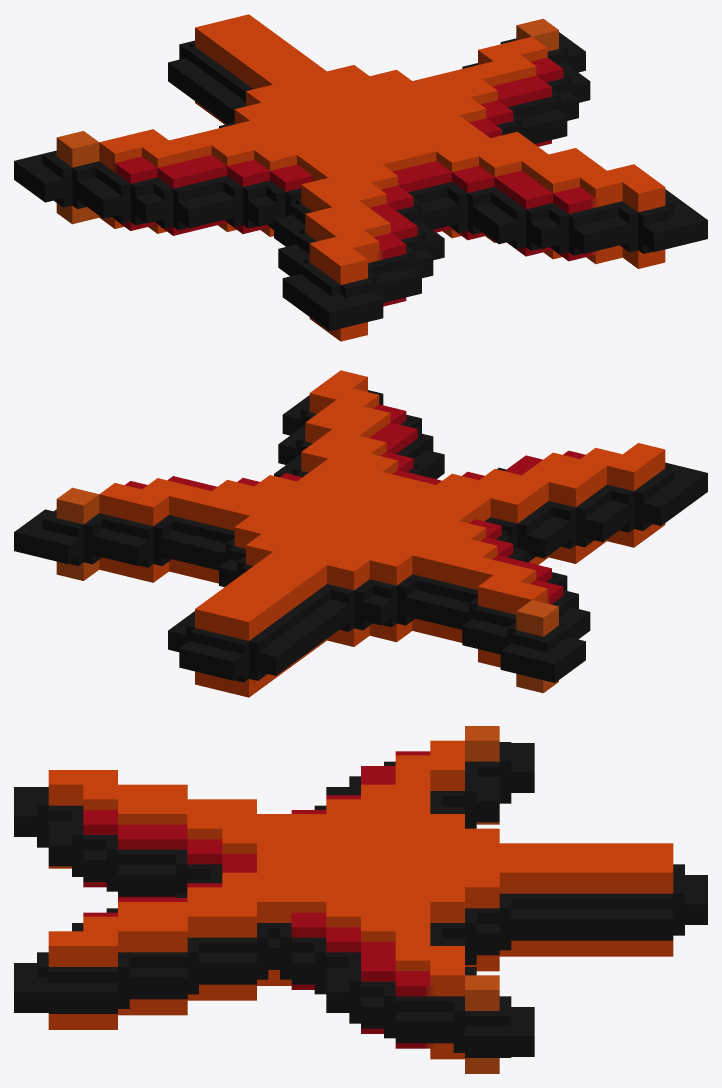
Rendered from Starfish.fbx.
3 renders of one model, top to bottom at view 1: azimuth 30°, elevation 25°; view 2: azimuth 150°, elevation 25°; view 3: azimuth 270°, elevation 25°, orthographic. The views are drawn at different scales.
Parts seen in each view (by area): view 1: Starfish; view 2: Starfish; view 3: Starfish.
Part boxes in pixels (x1=…): Starfish: x1=14, y1=14, x2=707, y2=341; Starfish: x1=14, y1=370, x2=707, y2=697; Starfish: x1=14, y1=726, x2=707, y2=1073.
Size of the model in its own units: 60 by 8 by 60.
Materials: 1 (1 with a texture image).
